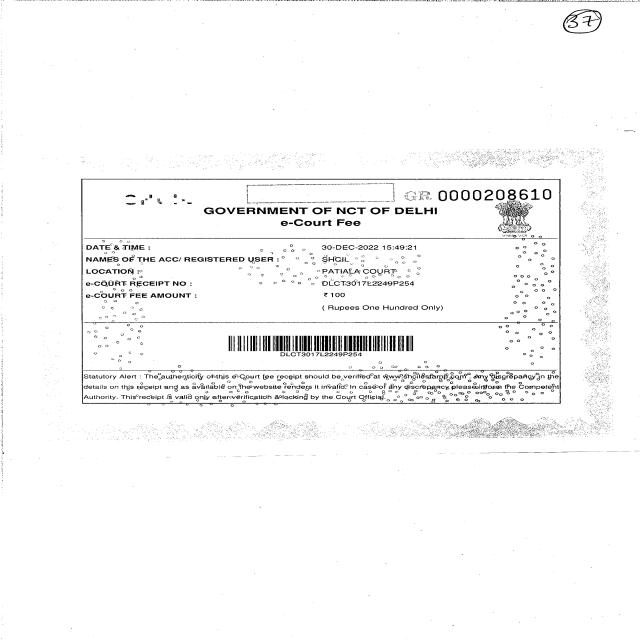page-number: (479, 4, 634, 78)
